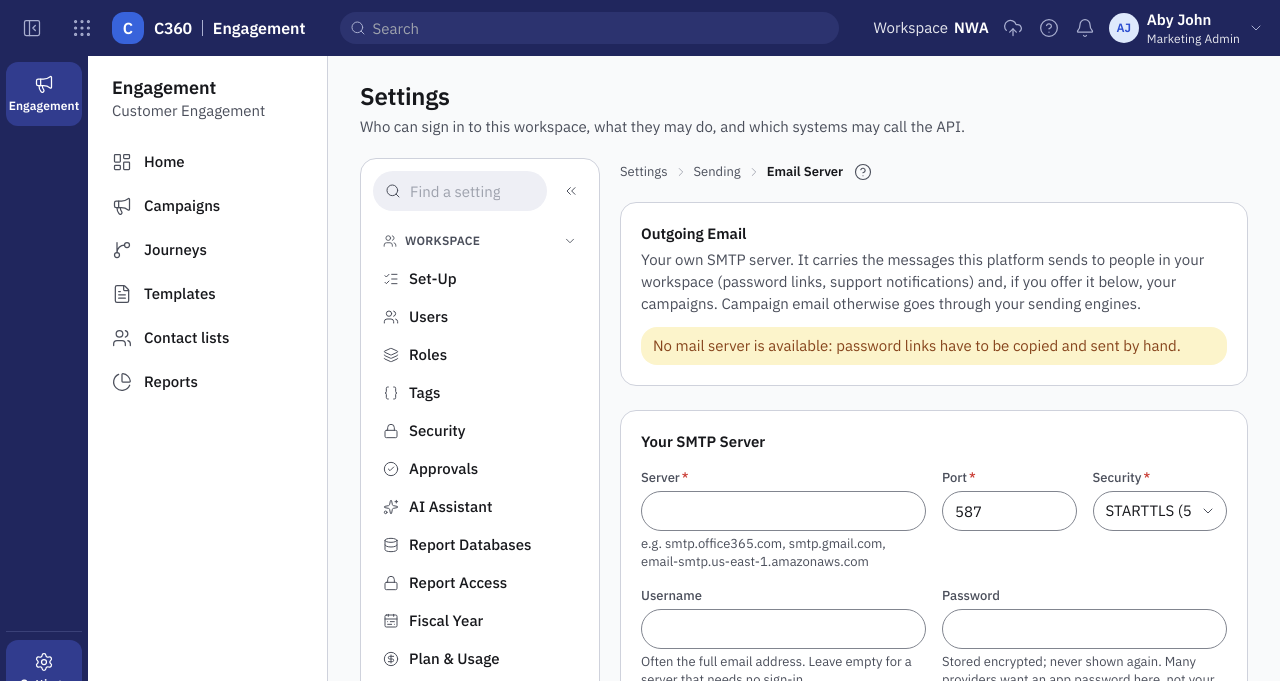
offered as a campaign sender: pending until a test passes, then verified; the campaign form labels it
Type "smtp.office365.com" into the field labelled "Server*".
click(784, 511); type("smtp.office365.com")  # box [641,491,926,531]
(page scrolled)
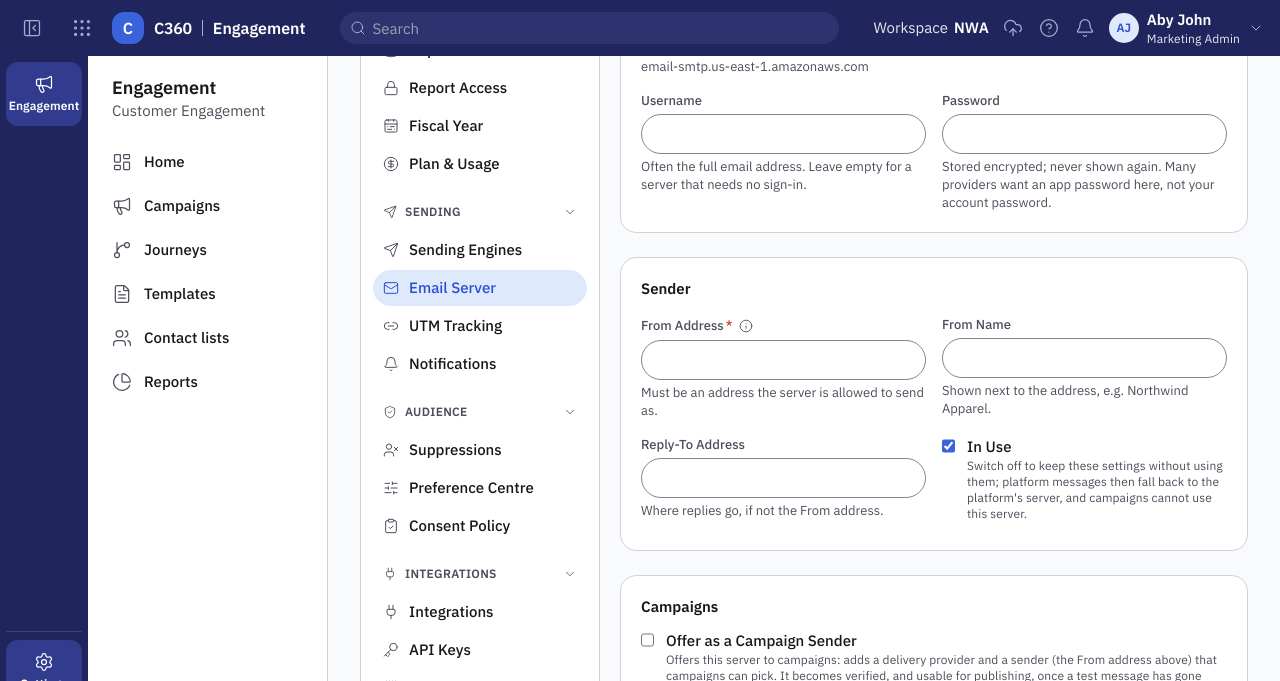
Type "hello@nwa.example" into the field labelled "From Address*".
click(784, 360); type("hello@nwa.example")  # box [641,340,926,380]
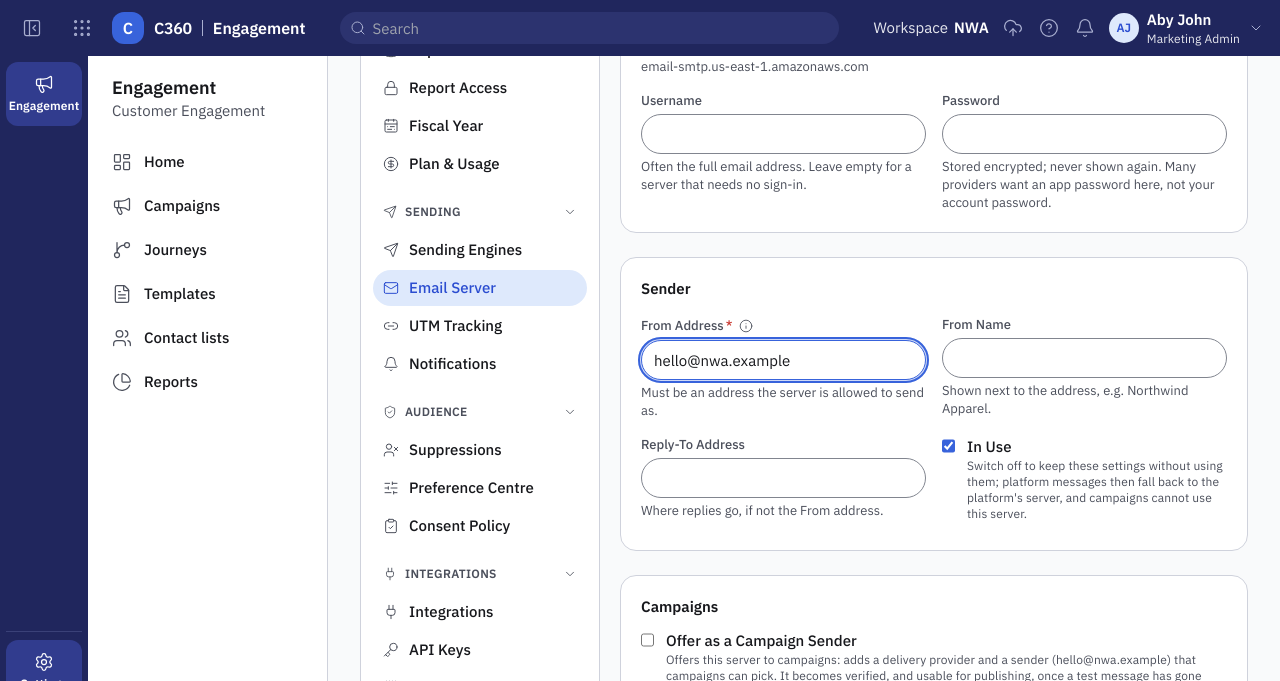
Type "Northwind" into the field labelled "From Name".
click(1084, 358); type("Northwind")  # box [942,338,1227,378]
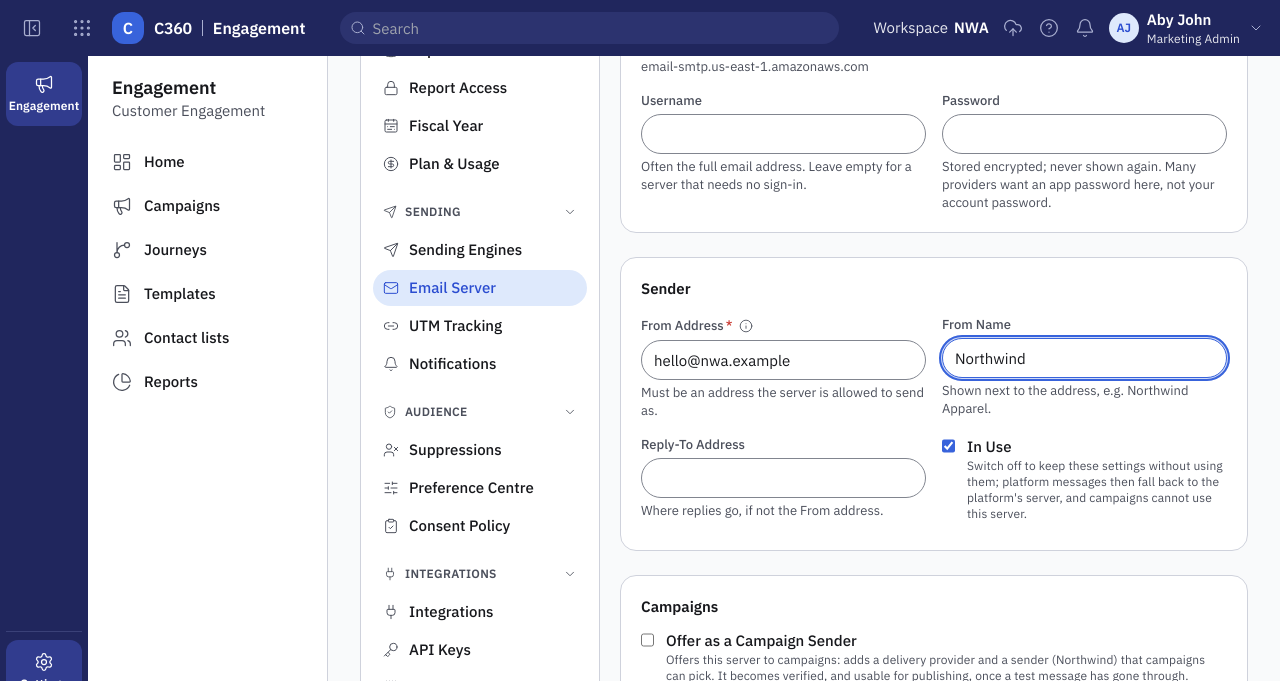
Click the checkbox labelled "Offer as a Campaign Sender".
click(648, 640)  # box [641,632,654,648]
(page scrolled)
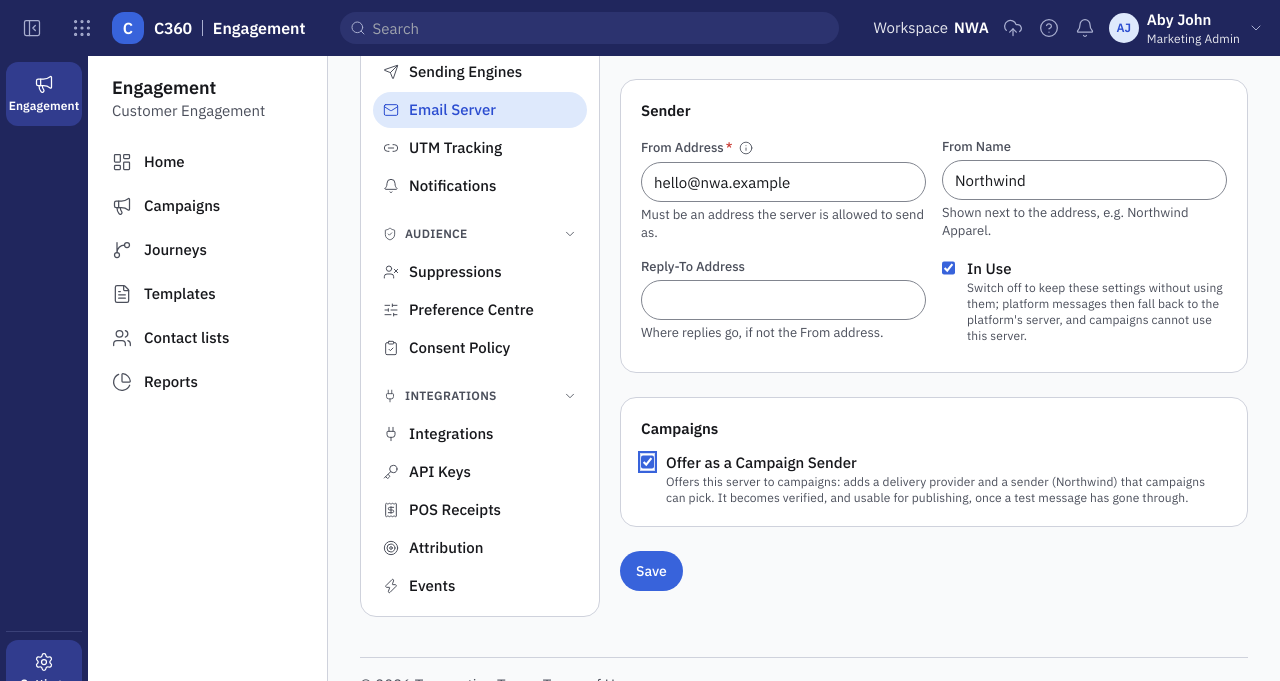
Click the button "Save".
click(651, 571)  # box [620,551,683,591]
(page scrolled)
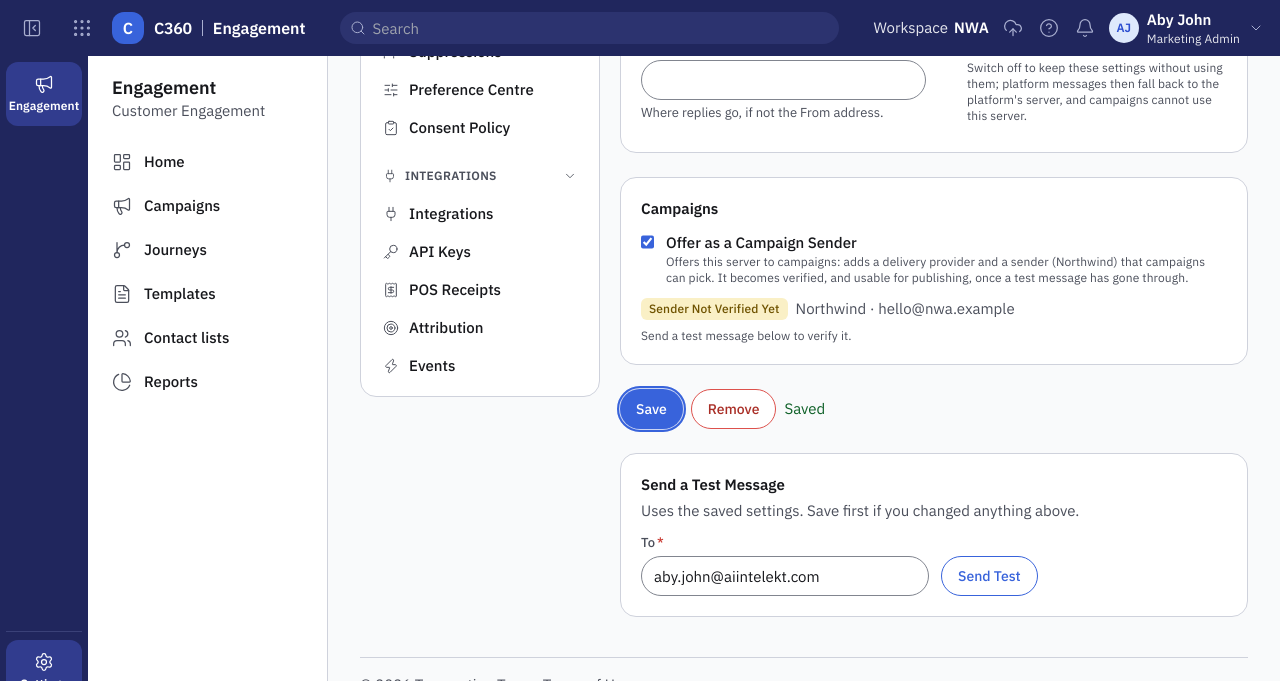
Now the text "Sender Not Verified Yet" is shown, box [641,298,788,320]
Click the button "Send Test".
click(989, 576)  # box [941,556,1038,596]
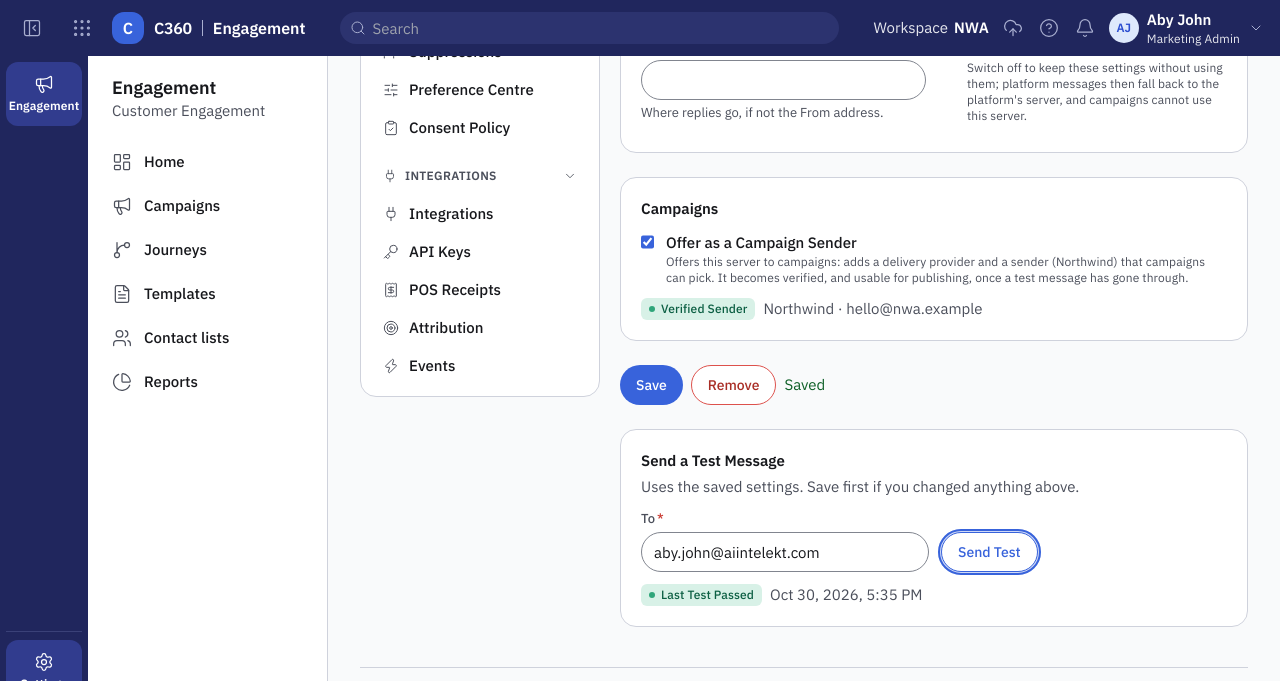
Now the text "Verified Sender Northwind · hello@nwa.example" is shown, box [641,298,982,320]
Now the text "Verified Sender" is shown, box [641,298,756,320]
